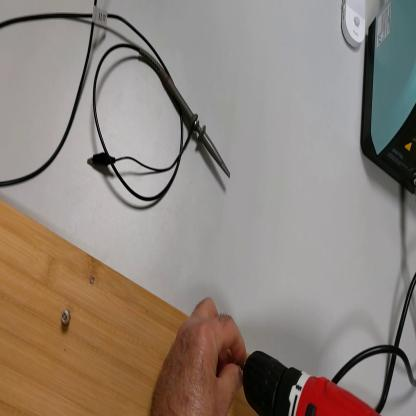electric screwdriver: (241, 349, 381, 415)
hand: (152, 297, 249, 415)
oscilloscope probe tip: (142, 48, 232, 178)
welder station: (362, 2, 416, 200)
working area: (1, 199, 260, 416)
